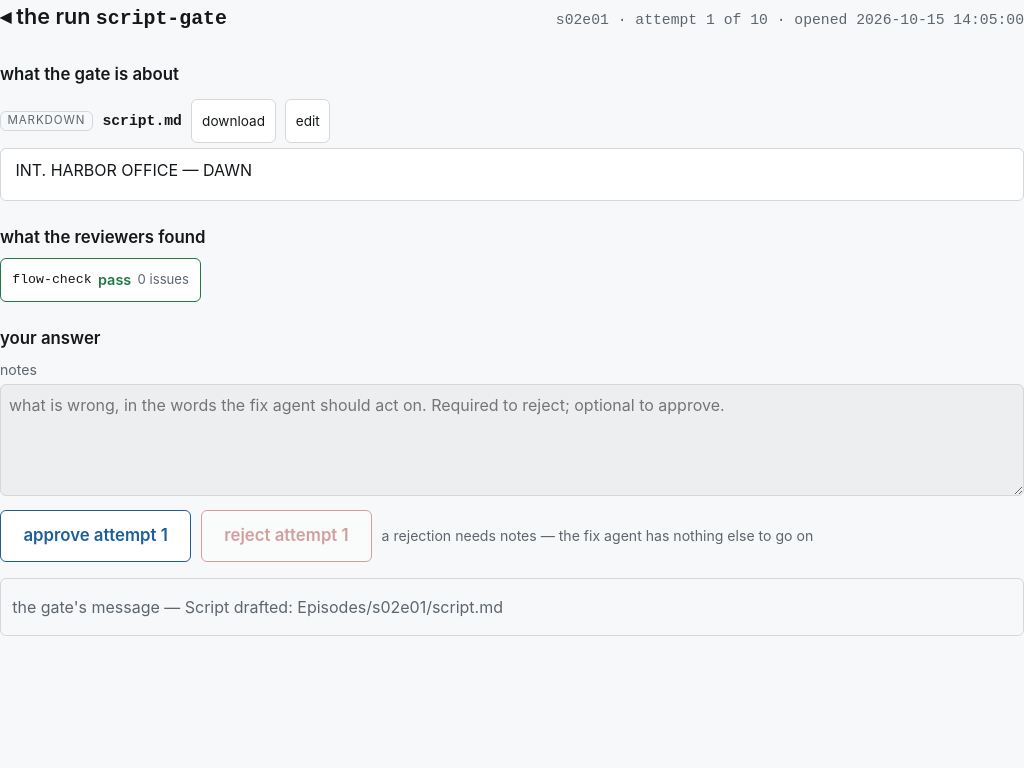
Scenario: the verdict board at the gate › a verdict with neither notes nor a prior reads as nothing raised, and draws neither block
expect the text "INT. HARBOR OFFICE — DAWN" is shown: met, box [15,160,252,180]
expect the text "0 issues" is shown: met, box [138,270,189,290]
What coordinates should you click on to do the following:
click the button "flow-check pass 0 issues"
I would click on:
 (101, 280)
Its box is [0,258,201,302].
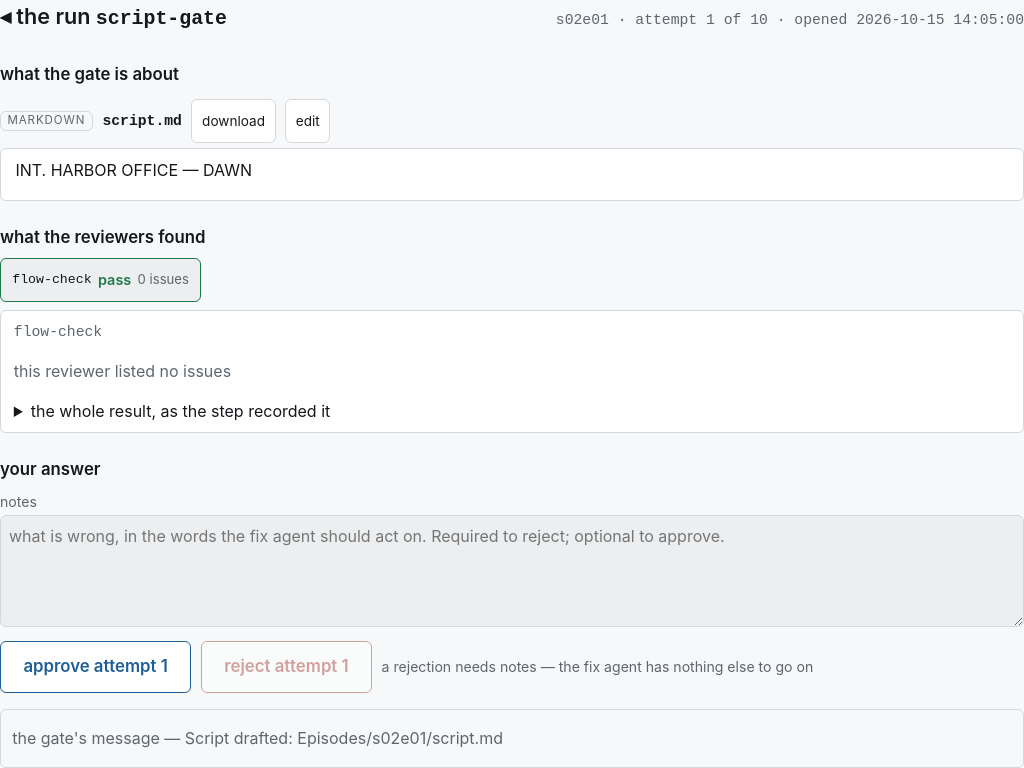
expect the text "this reviewer listed no issues" is shown: met, box [14,361,231,381]
